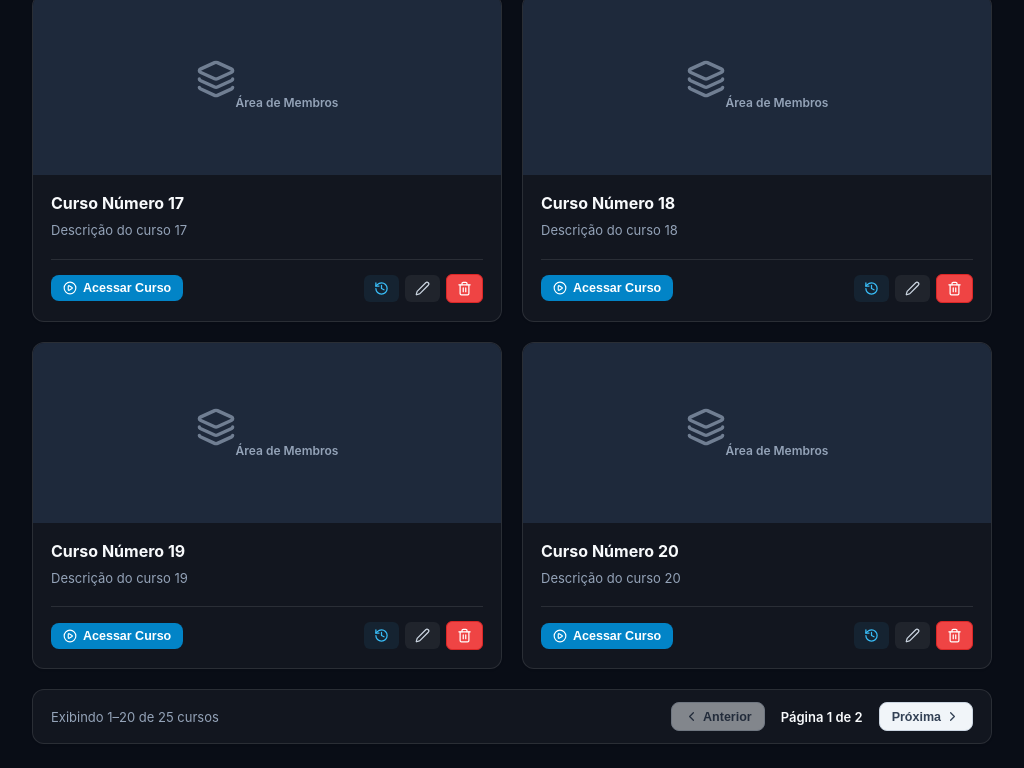
Scenario: CourseManagement Component › paginates courses to show 20 per page and allows navigation
(page scrolled)
Expected: the heading "Curso Número 20" is shown, 541,540 -> 679,560
Expected: the element with test id "courses-pagination" is shown, 32,689 -> 992,744
# Clica em Próxima página
Click the button with test id "next-page-btn" at (926, 716), box 879,702 -> 973,731
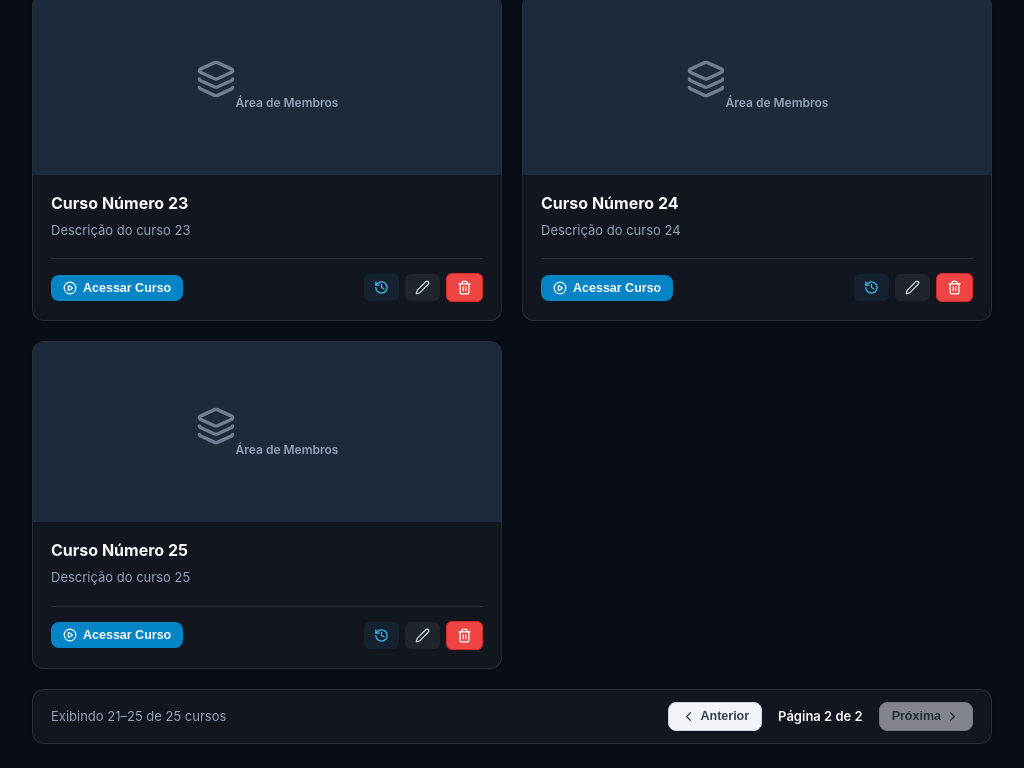
Expected: the heading "Curso Número 25" is shown, 51,540 -> 188,560
Expected: the heading "Curso Número 1" is gone
Expected: the text "Página 2 de 2" is shown, 778,708 -> 863,724
